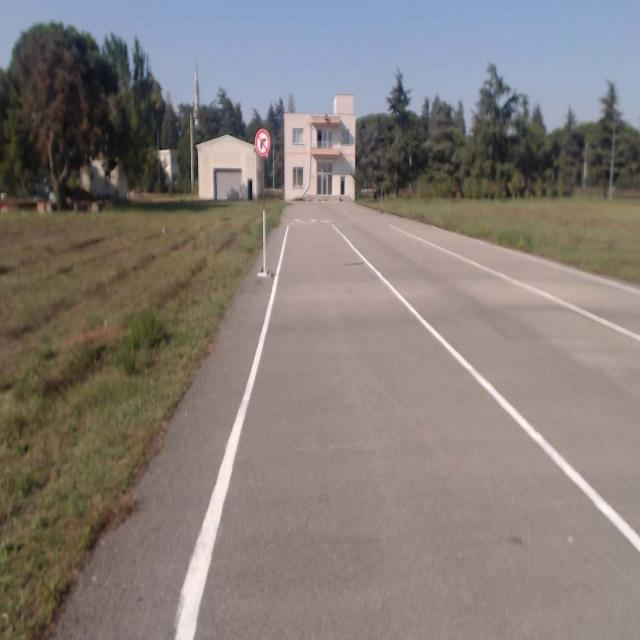sagadonulmez: (256, 129, 270, 159)
